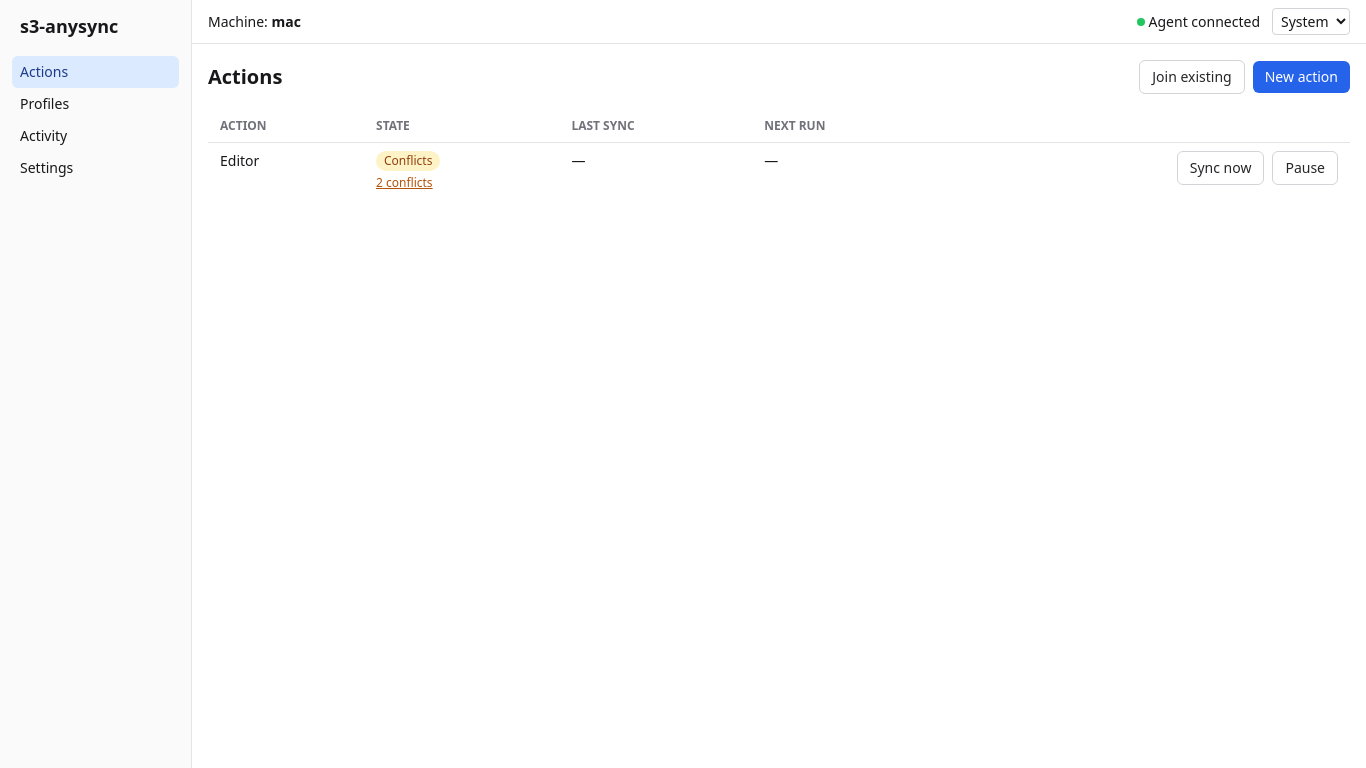
per-file radios have unique names and keep-cloud of a file that was deleted on the cloud side deletes it here
This screenshot has width=1366, height=768.
Click the button "2 conflicts". click: (404, 183)
box: [376,175,433,191]
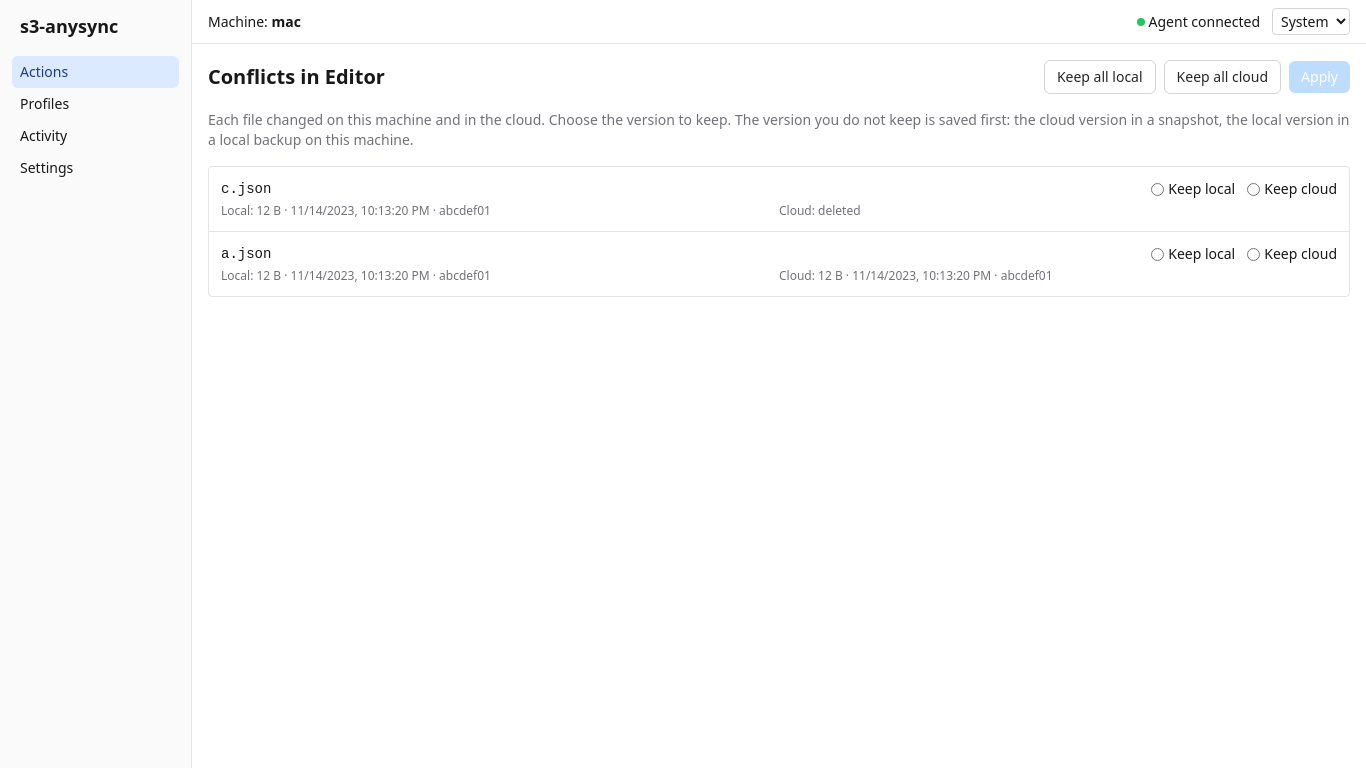
Result: the heading "Conflicts in Editor" is shown at [208,63,385,91]
Click the radio button with aria-label "Keep cloud c.json". click: (1254, 189)
box: [1247,182,1260,196]
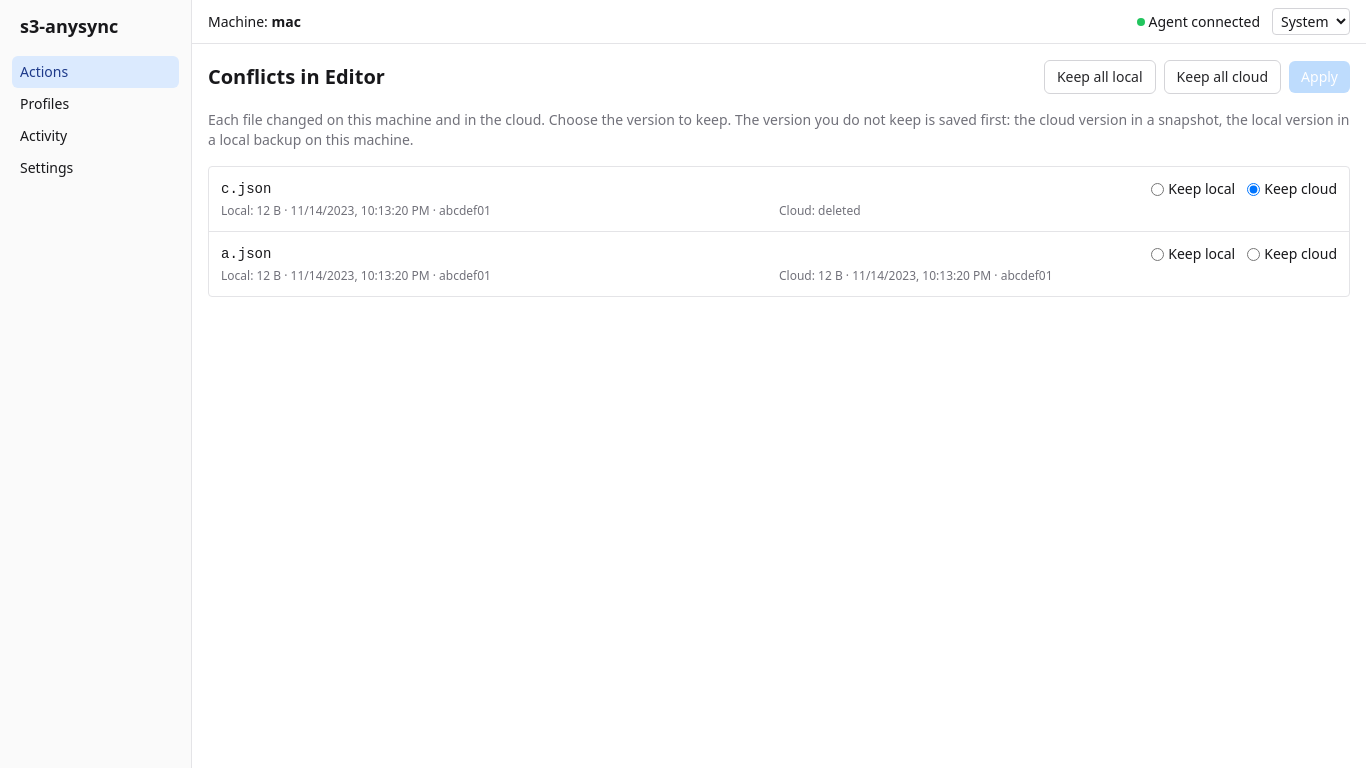
Click the radio button with aria-label "Keep local a.json". click: (1158, 254)
box: [1151,248,1164,260]
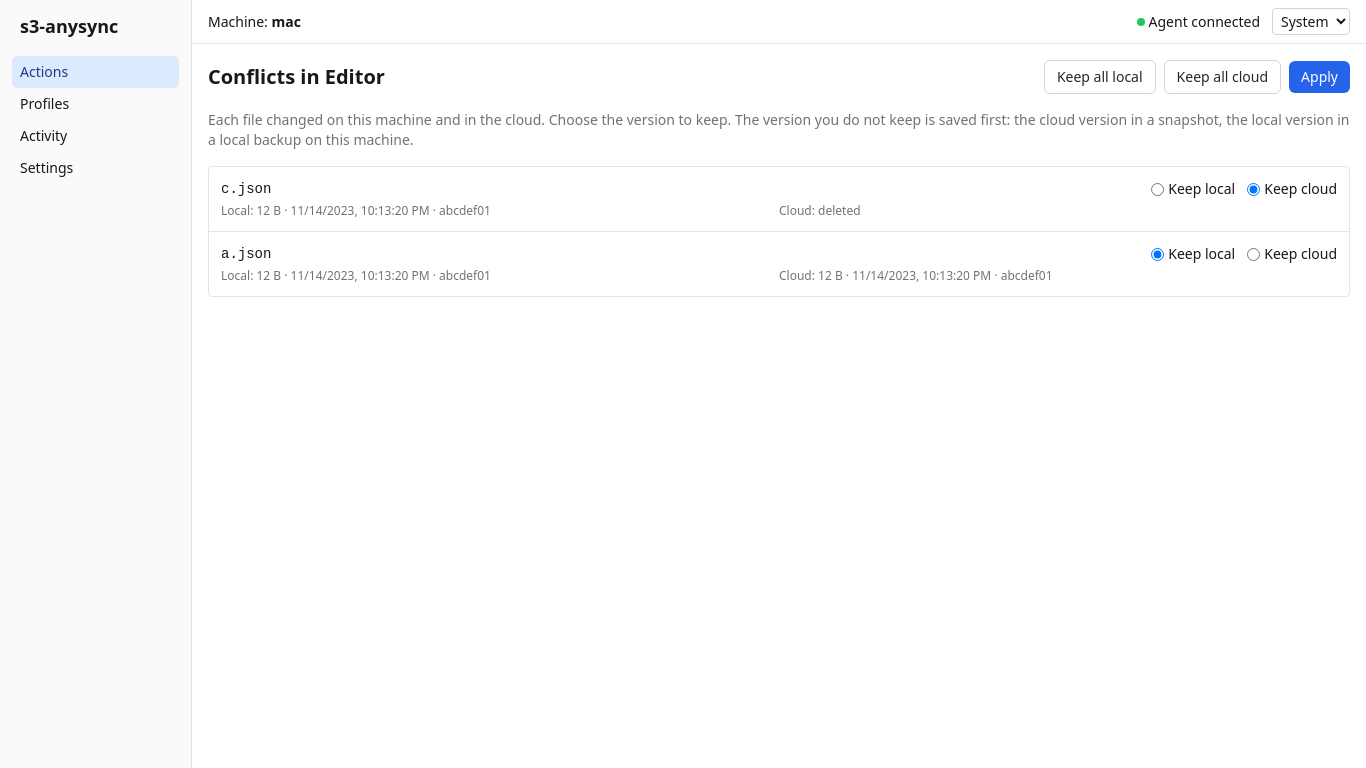
Click the button "Apply". click: (1320, 77)
box: [1289,61,1350,93]
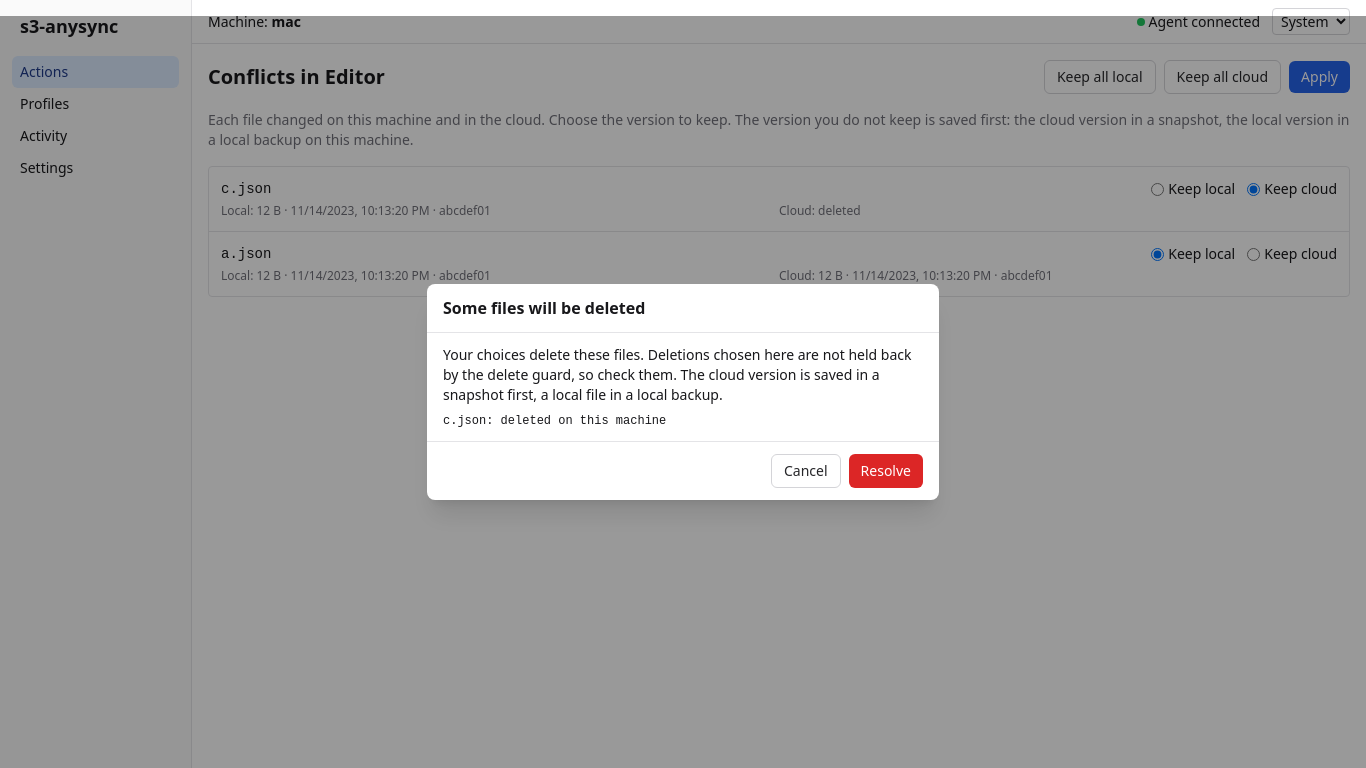
Result: the list item "c.json: deleted on this machine" is shown at [443,414,666,428]
Result: the text "local backup" is shown at [443,345,912,404]
